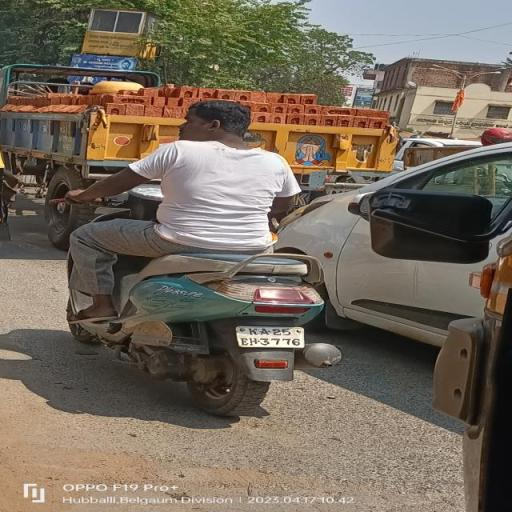bike: (48, 96, 352, 418)
numberplate: (238, 324, 306, 350)
withouthelmet: (180, 102, 250, 139)
